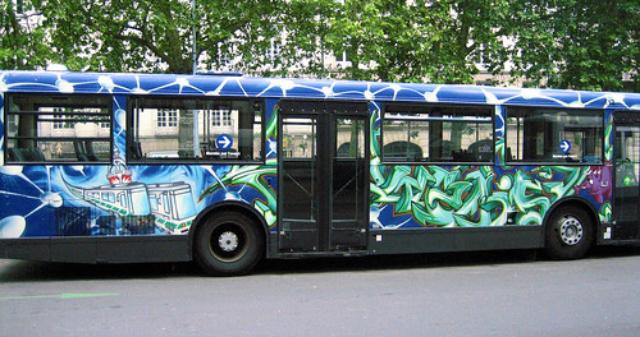bus: (1, 68, 640, 278)
